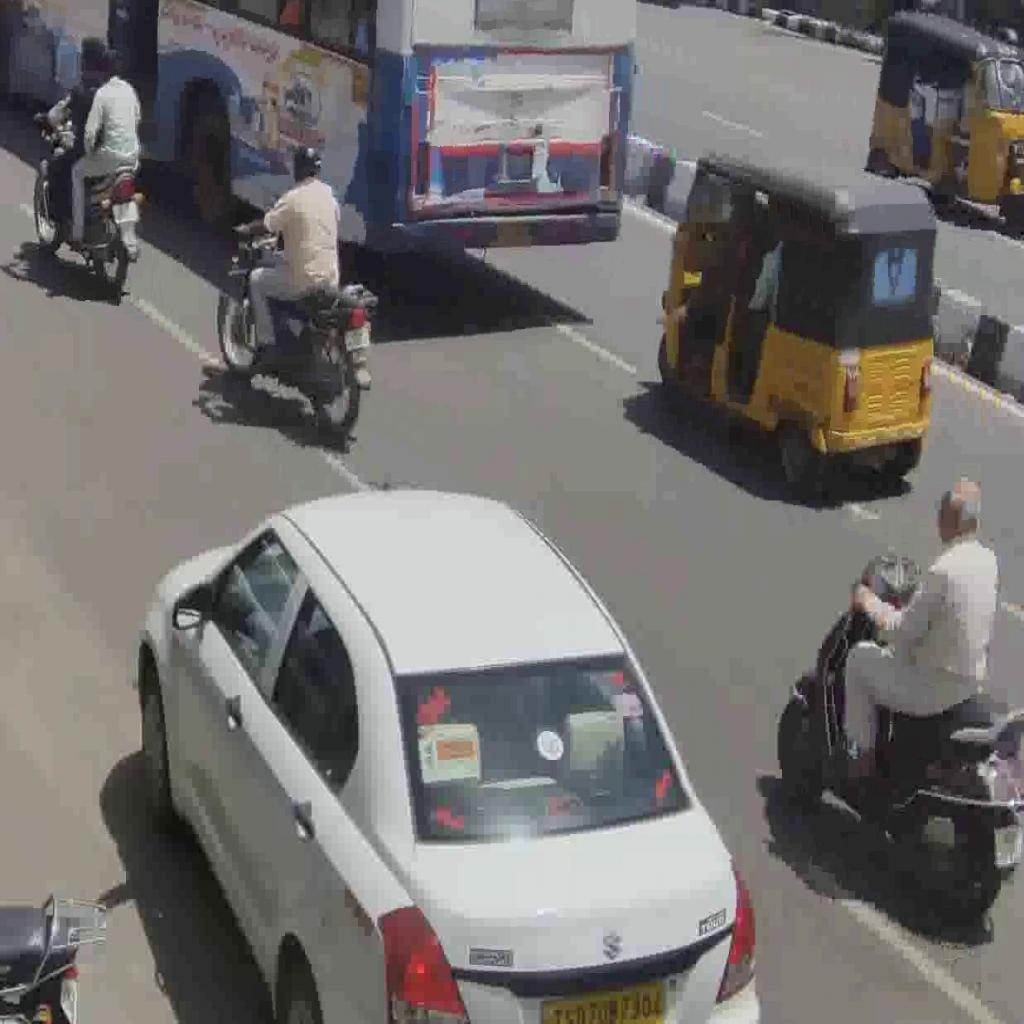bike: (772, 550, 1022, 932), (215, 217, 378, 436), (32, 100, 145, 299)
helmet: (288, 137, 322, 187)
lisc: (344, 326, 370, 353)
no_helmet: (935, 474, 987, 552), (75, 30, 107, 86), (101, 43, 127, 93)
rider: (842, 474, 1000, 789), (236, 137, 343, 377), (68, 45, 142, 248), (47, 30, 111, 240)
